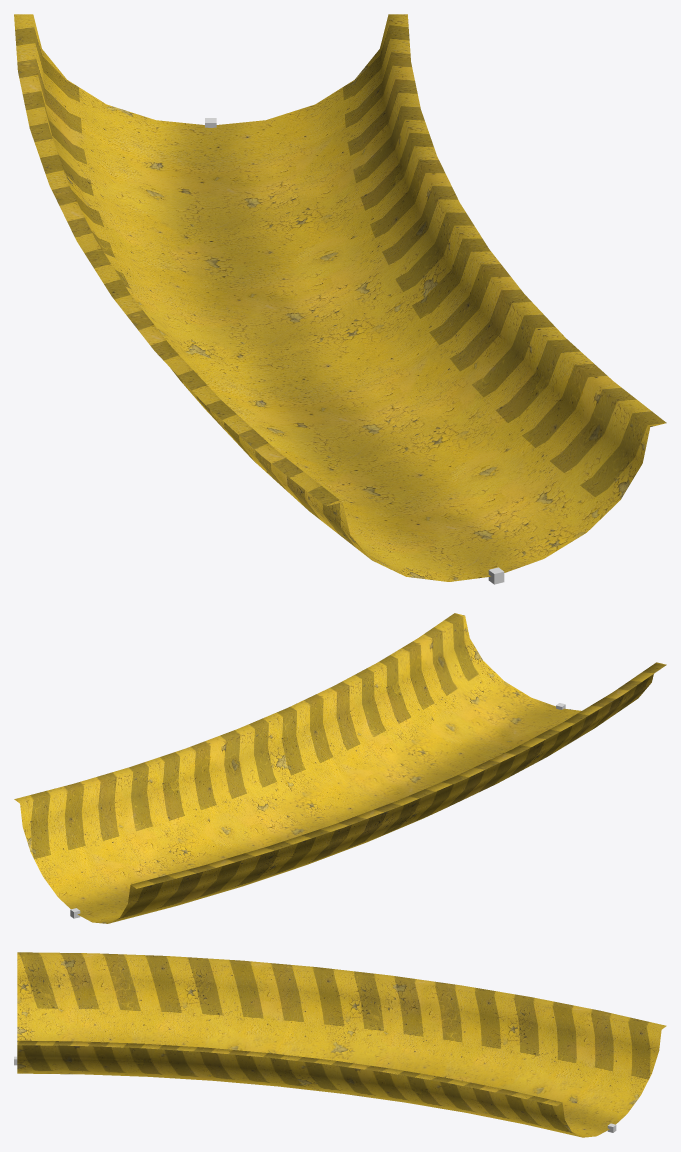
File: roadBend30.R.fbx
The picture shows the model from 3 angles, top to bottom: view 1: azimuth 30°, elevation 25°; view 2: azimuth 150°, elevation 25°; view 3: azimuth 270°, elevation 25°; orthographic projection. The views are drawn at different scales.
Visible parts, largest first — view 1: MESH roadBend30.R; view 2: MESH roadBend30.R; view 3: MESH roadBend30.R.
Boxes of the visible parts, left/top/right/bottom form: MESH roadBend30.R: left=14, top=14, right=666, bottom=581; MESH roadBend30.R: left=14, top=613, right=666, bottom=923; MESH roadBend30.R: left=17, top=952, right=666, bottom=1137.
Size of what is drawn, in the model's own units: 2809 by 553 by 5032.
